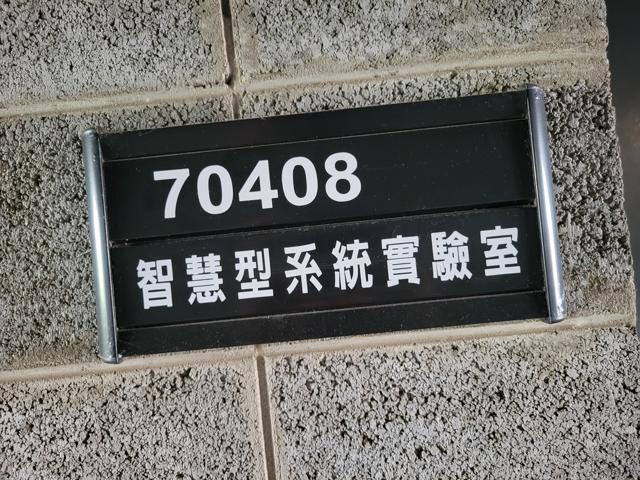doorplate: (74, 77, 574, 369)
